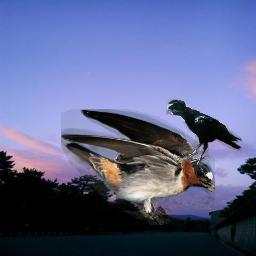Crow: (166, 99, 242, 165)
Swallow: (61, 109, 215, 225)
